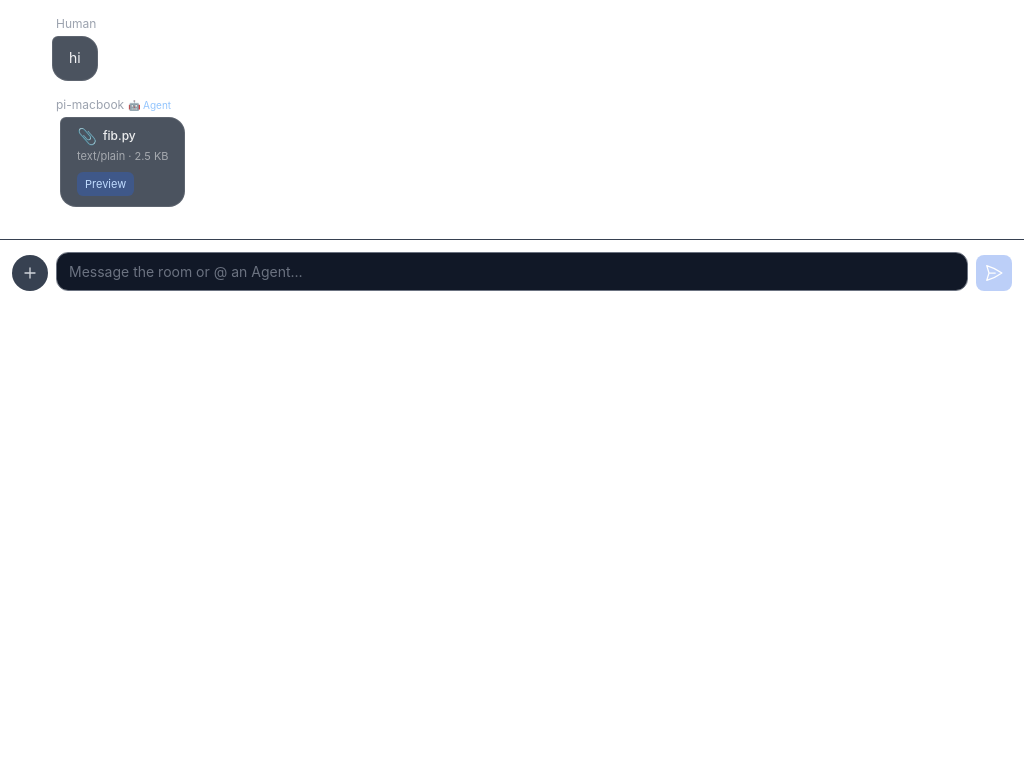
Scenario: standalone Agent attachment rendering (#234) › renders sender, file name, mime, size and a Preview action
Expected: the text "pi-macbook" is shown, [56,97,124,112]
Expected: the text "fib.py" is shown, [103,128,136,144]
Click the button "Preview" at (106, 184), box [77,172,134,196]
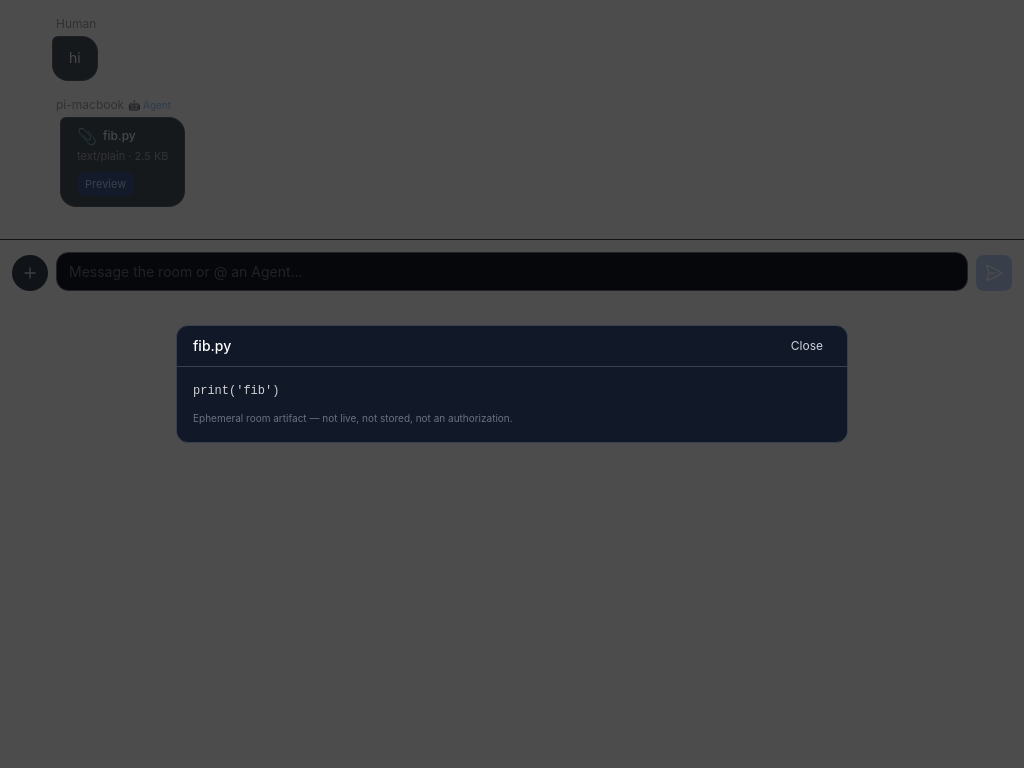
Now the text "print('fib')" is shown, box [193,384,279,398]
